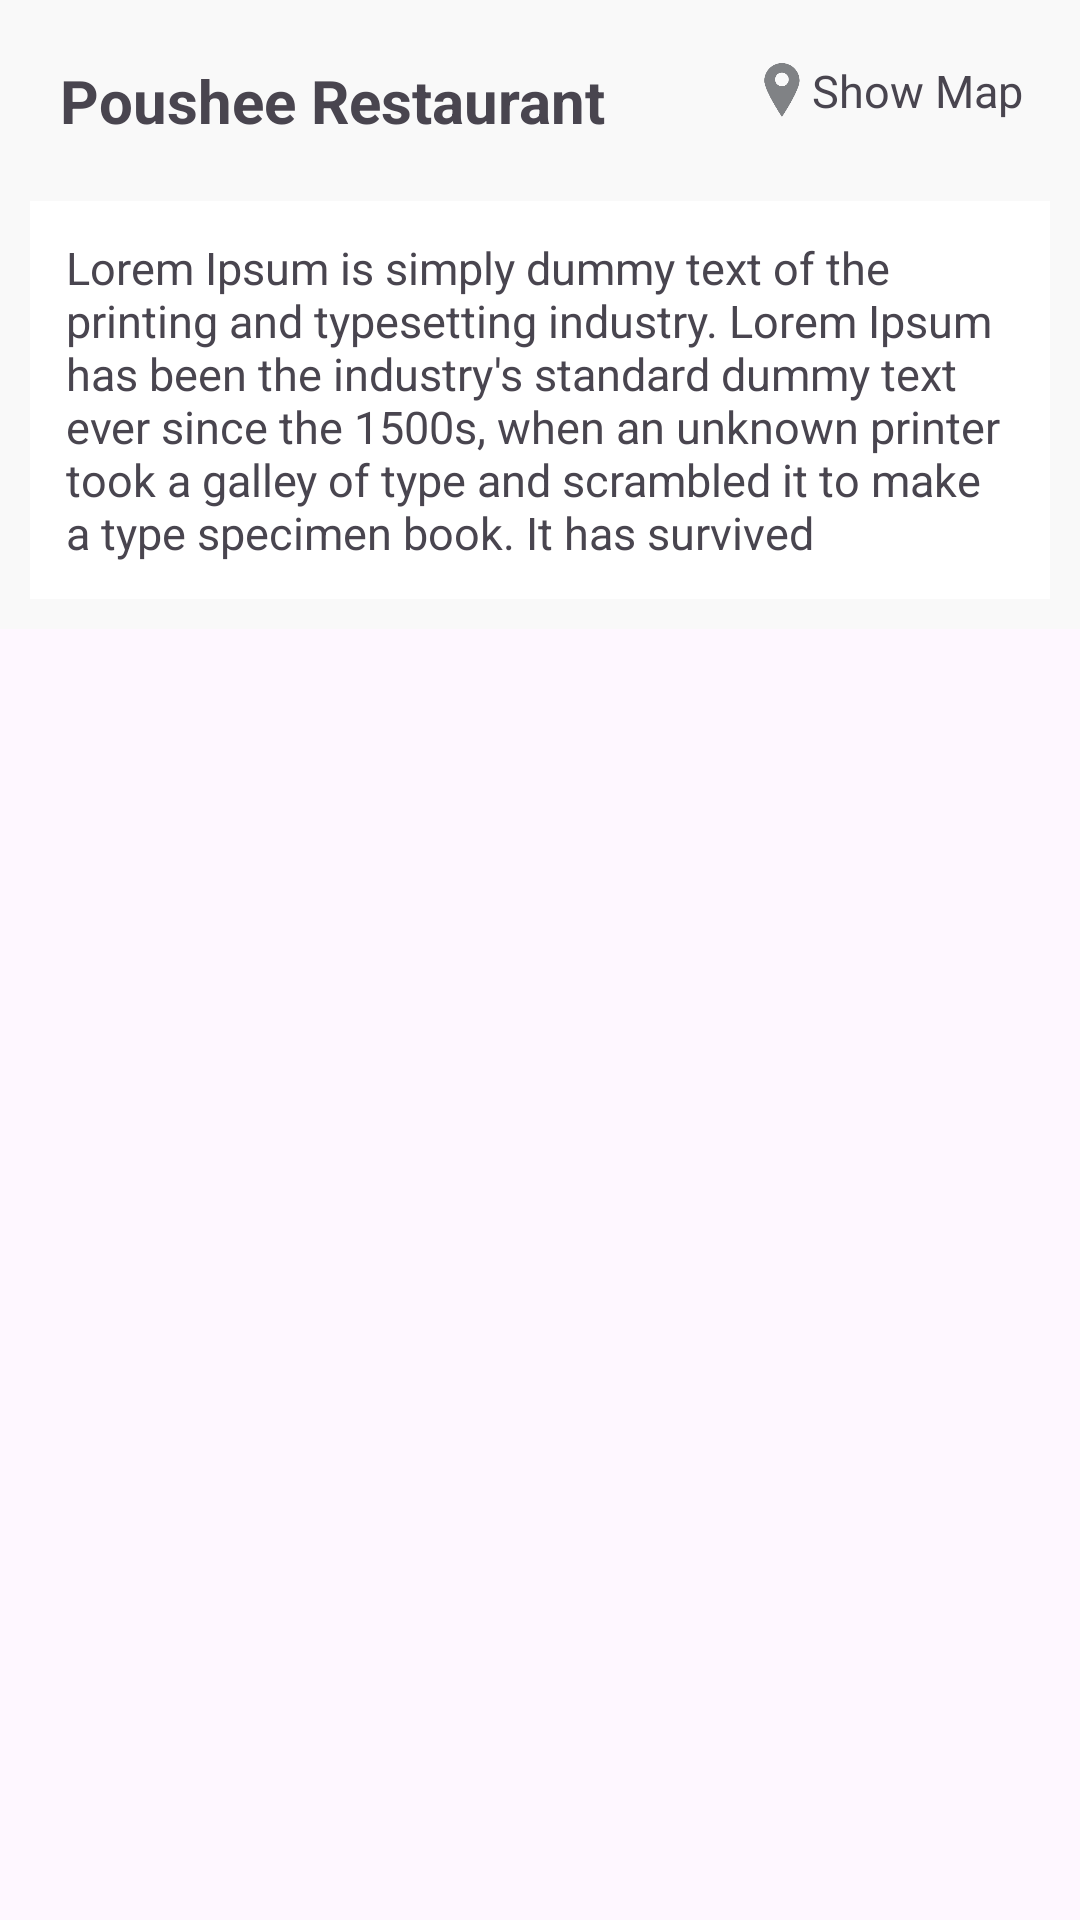

Named icons in this screenshot (1080 x 1920) and their bounding boxes, (x1, y1, x2, y2):
maploc: (764, 63, 800, 117)
